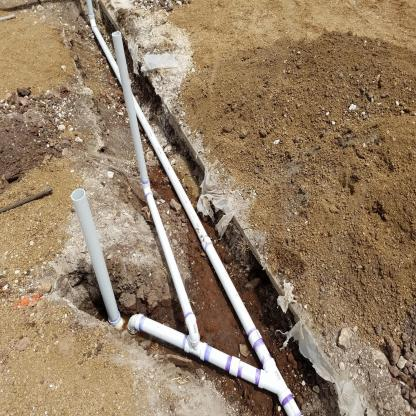PVC: (73, 32, 303, 416), (85, 0, 120, 80)
